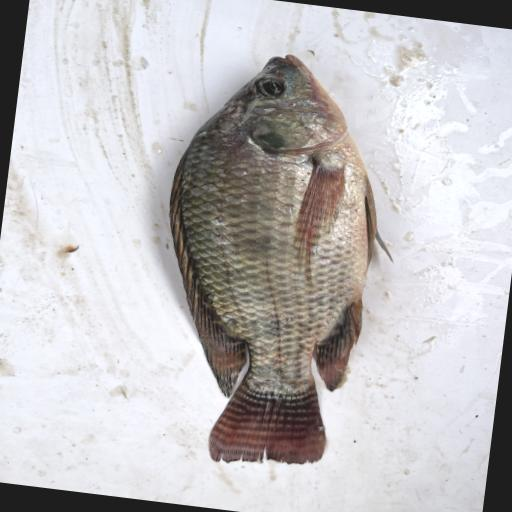Tilapia: (139, 42, 418, 481)
